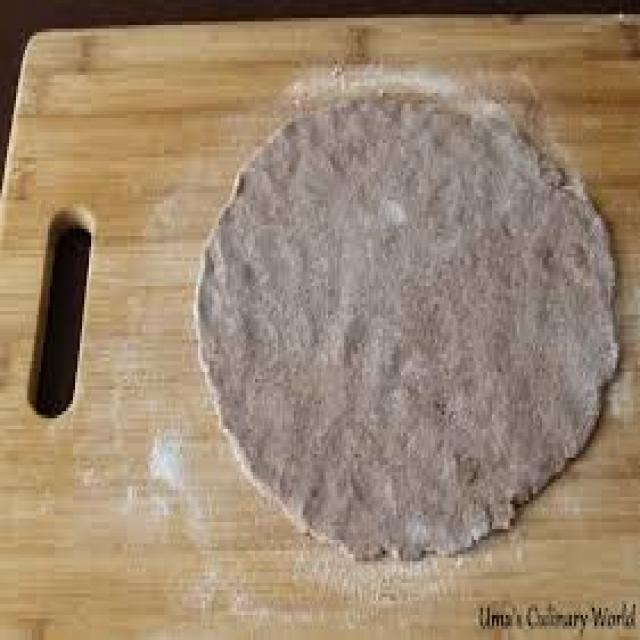DOSA: (191, 36, 610, 558)
